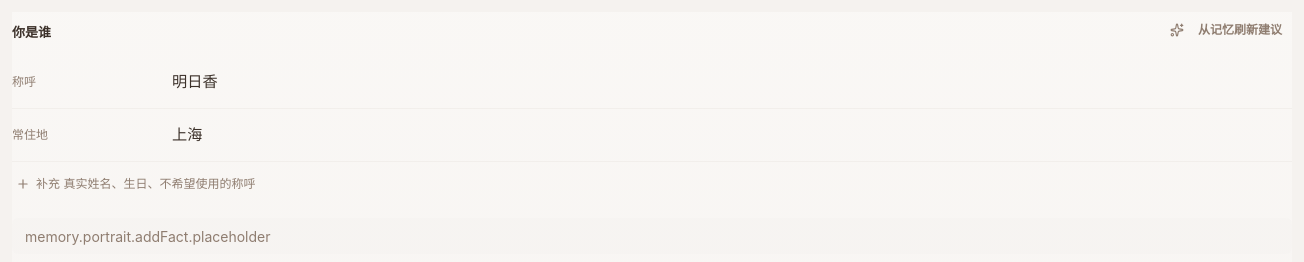
PortraitIdentitySection › cancels an edit on Escape without saving
Click the button "明日香": (195, 82) [172,68,218,96]
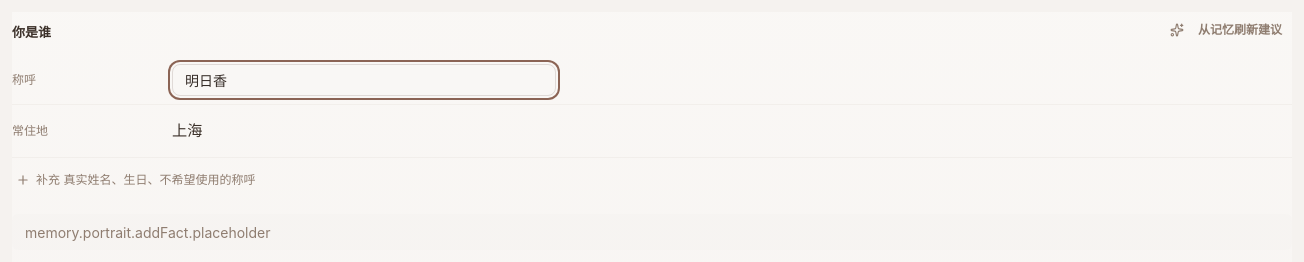
Replace the text in the field named "称呼" with "别的东西": (364, 80) [172,64,556,96]
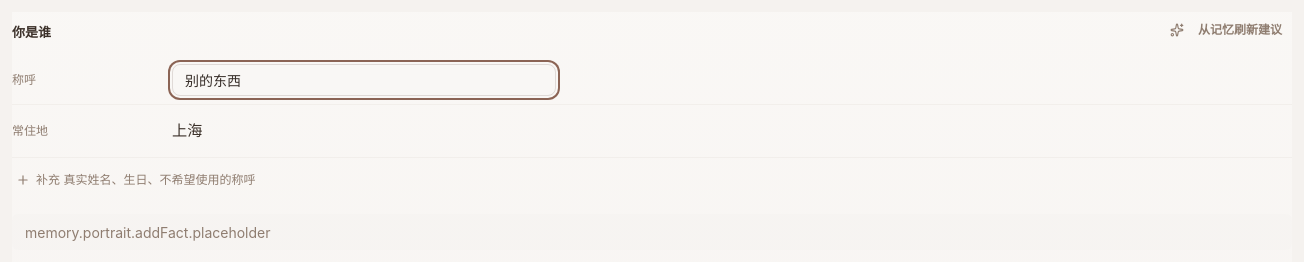
Press Escape in the field named "称呼", box [172,64,556,96]
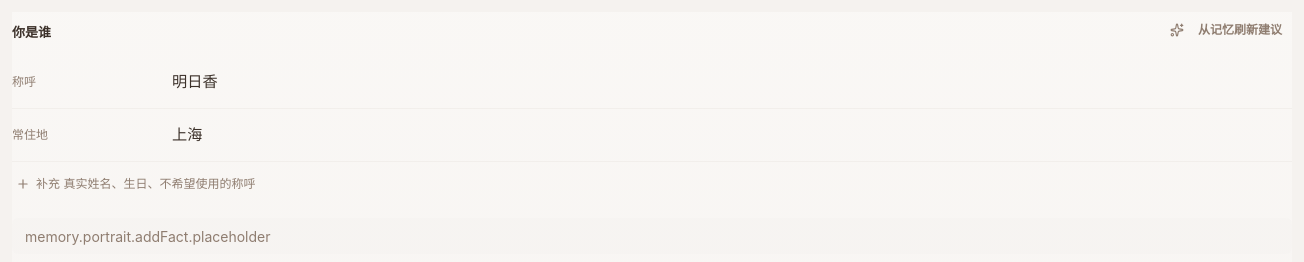
expect the button "明日香" is shown: met, box [172,68,218,96]
